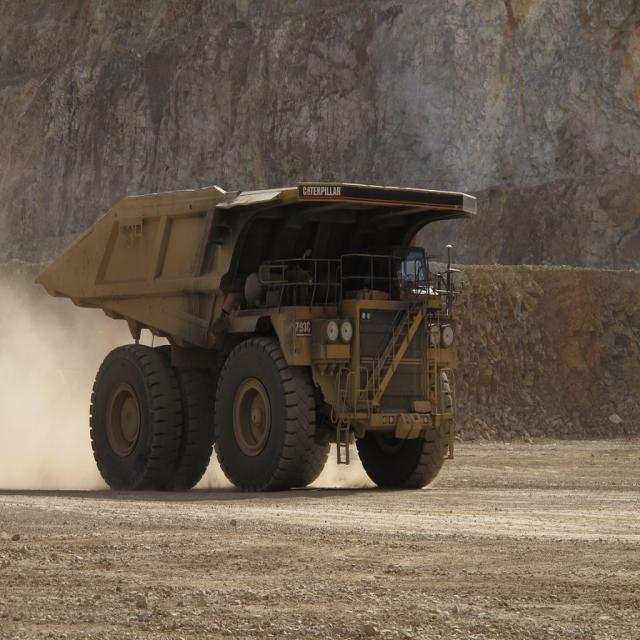dump_truck: (35, 163, 487, 495)
